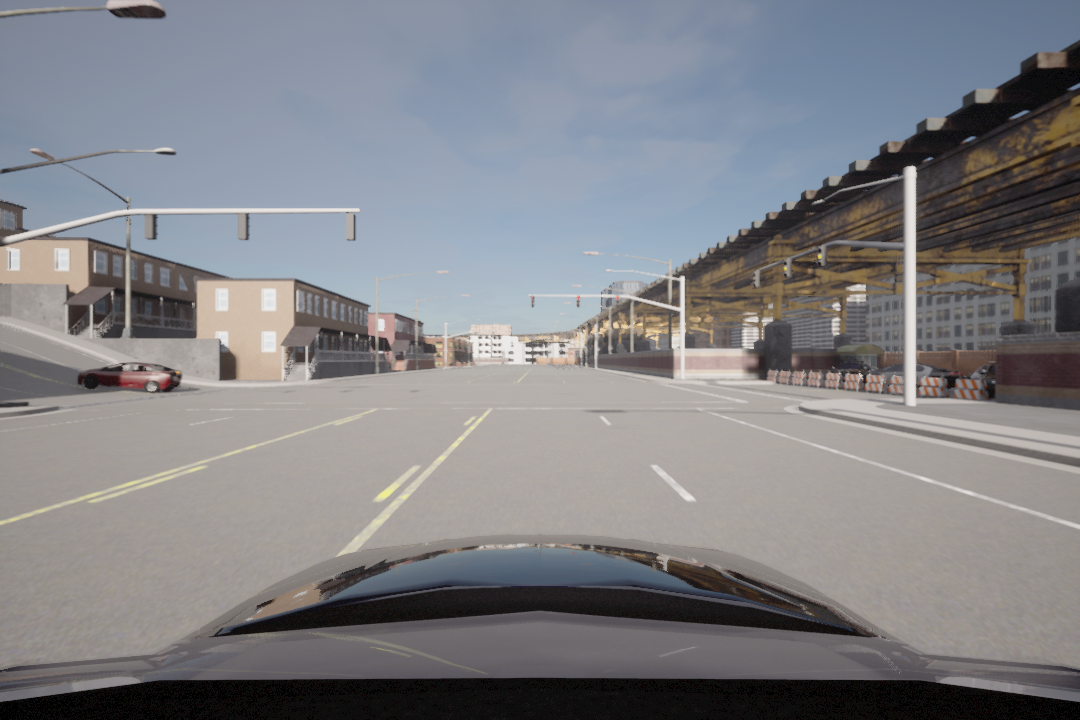TrafficLight: (781, 258, 793, 284), (814, 244, 826, 268), (751, 267, 760, 290), (528, 294, 538, 309), (614, 294, 622, 311), (575, 291, 582, 307)
